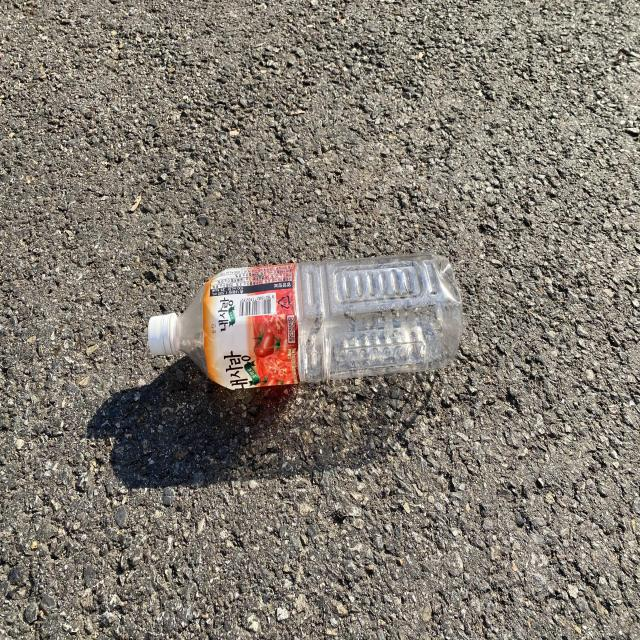plastic: (147, 252, 463, 390)
